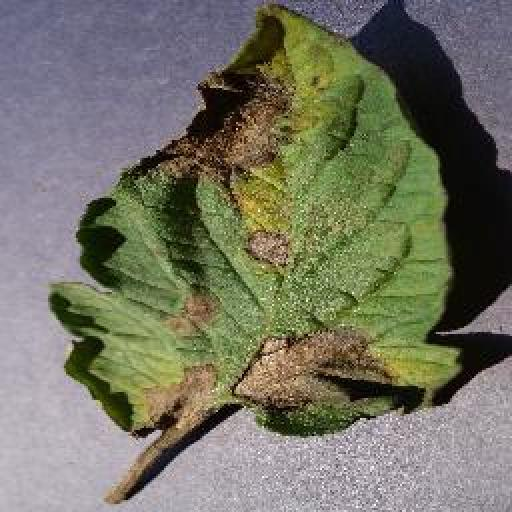disease_tomato: (48, 0, 464, 436)
